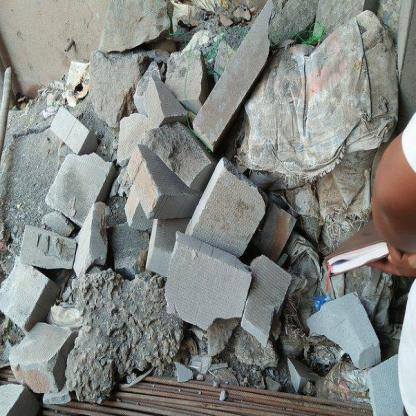brick: (1, 0, 298, 415), (307, 291, 406, 415)
